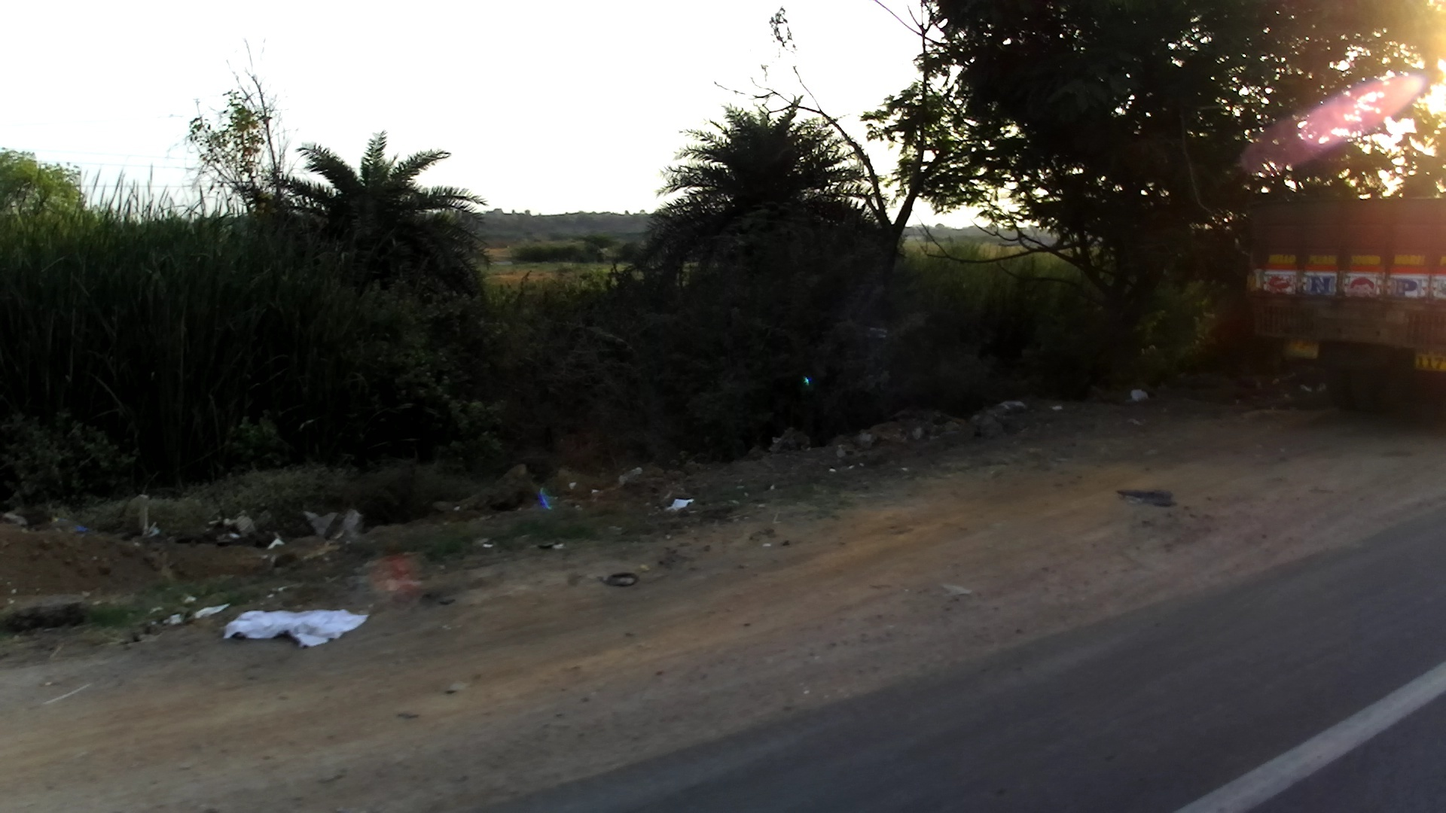truck: (1239, 196, 1441, 416)
